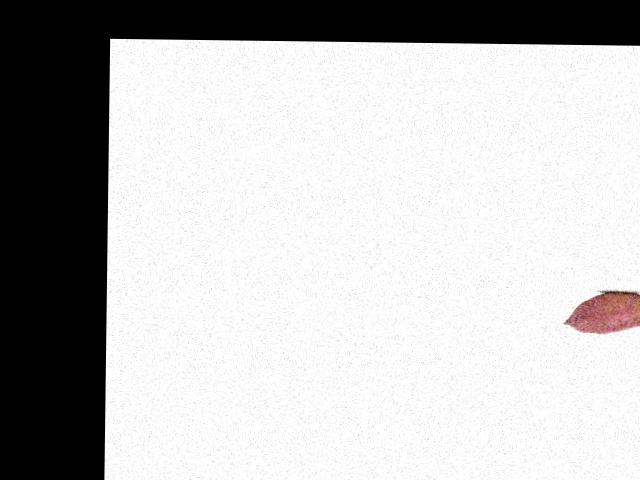sweet_potato: (563, 293, 640, 334)
